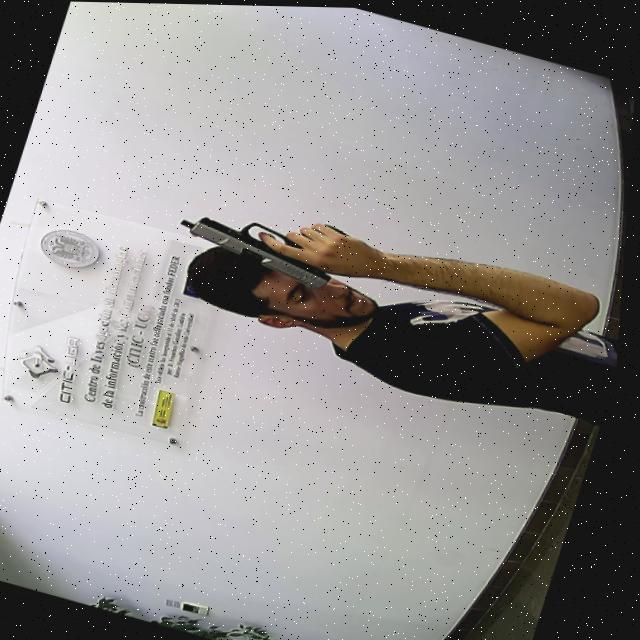pistol: (170, 199, 348, 291)
